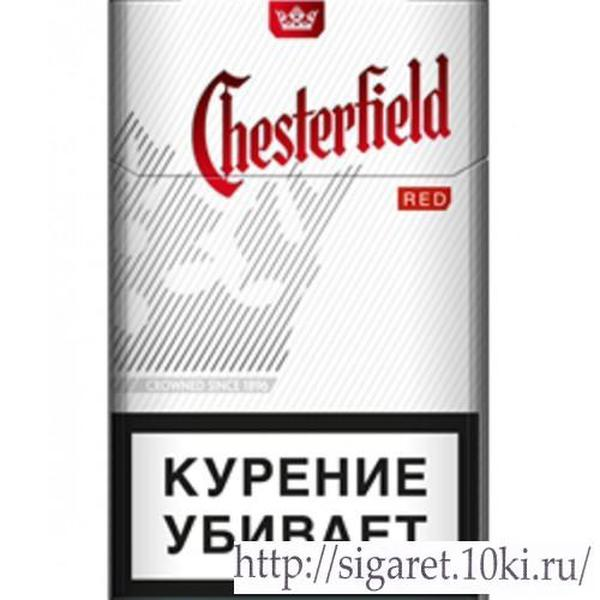chesterfield_red: (112, 2, 483, 596)
